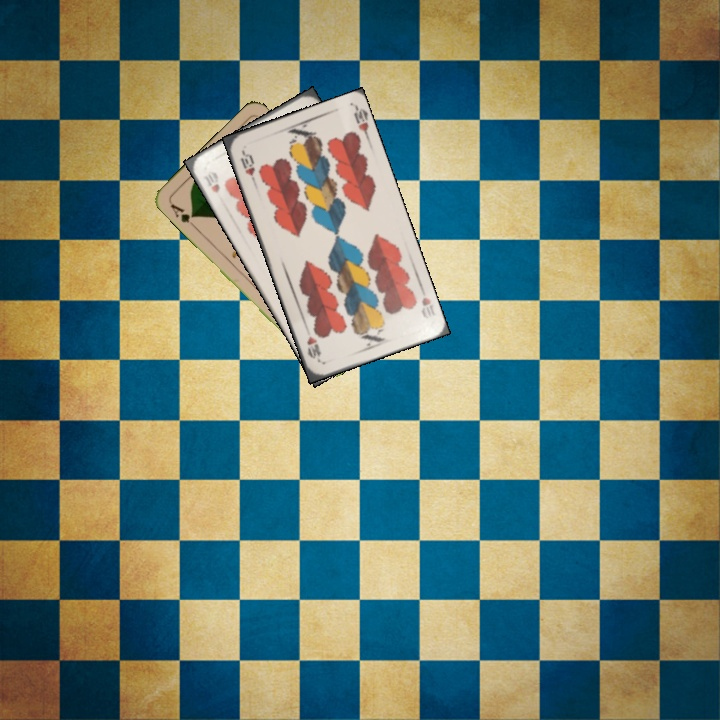GA: (166, 200, 199, 231)
H10: (236, 146, 258, 186), (416, 282, 437, 321), (199, 166, 223, 195)
